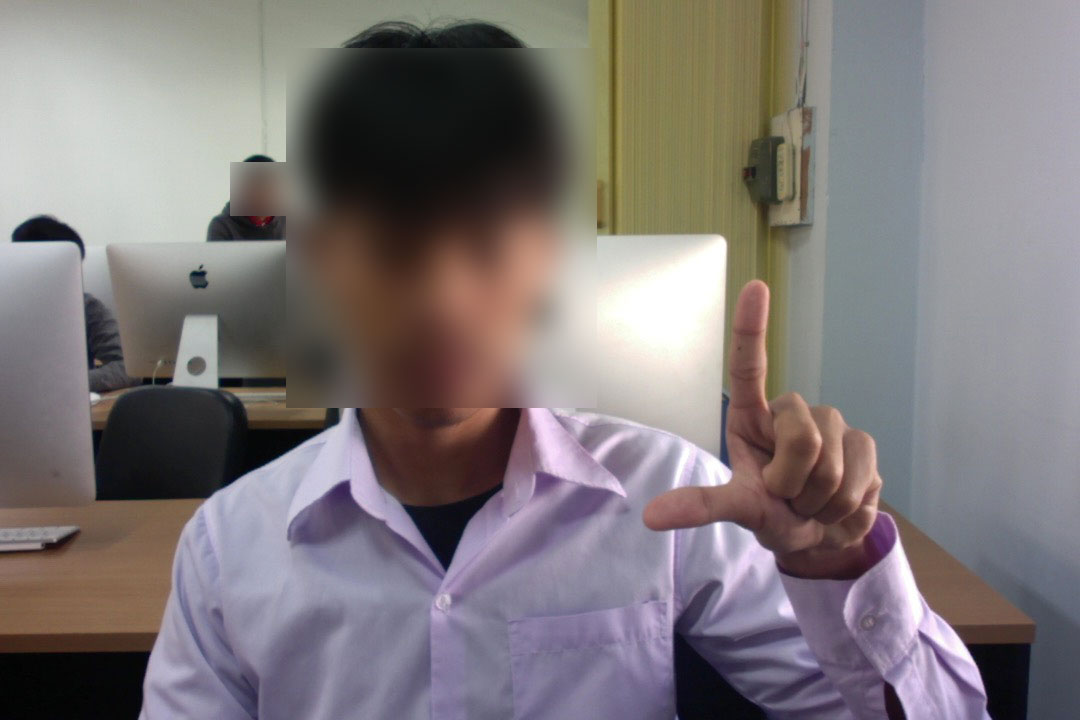lor: (624, 262, 922, 599)
